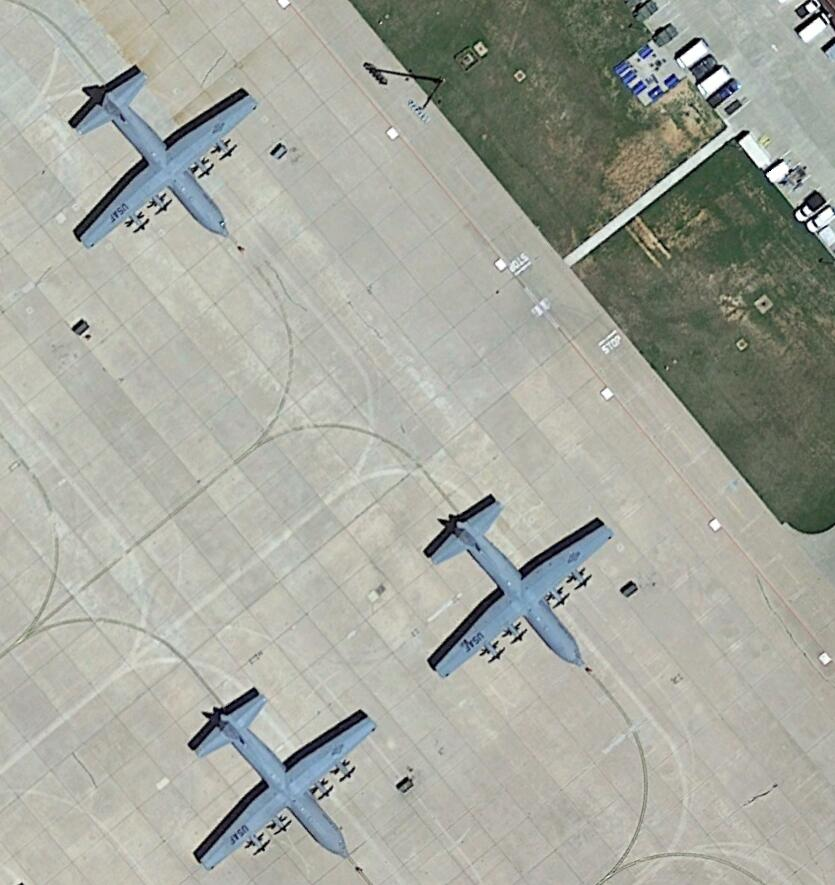A2: (416, 482, 617, 683), (63, 63, 266, 252), (185, 682, 382, 871)
